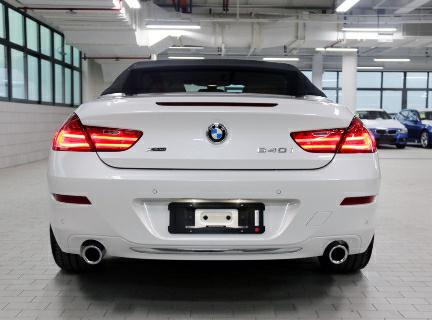宝马-6系: (45, 56, 384, 289)
